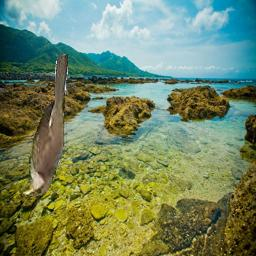Cuckoo: (22, 54, 68, 196)
